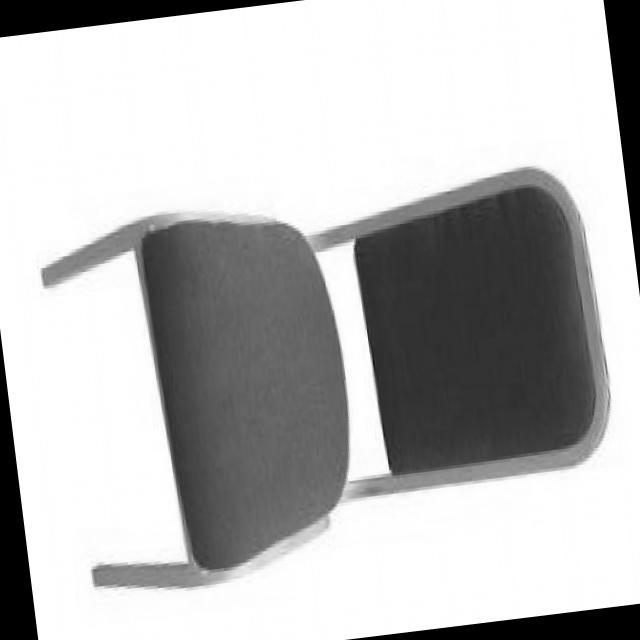chair: (28, 156, 630, 604)
